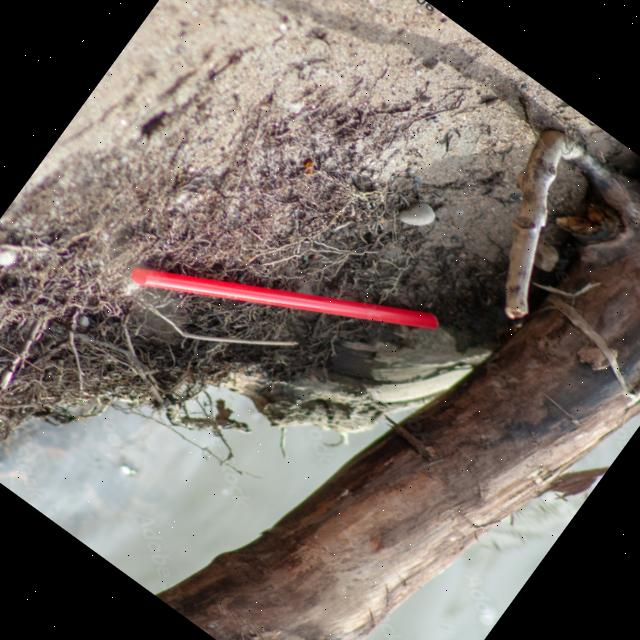plastic: (107, 136, 470, 468)
